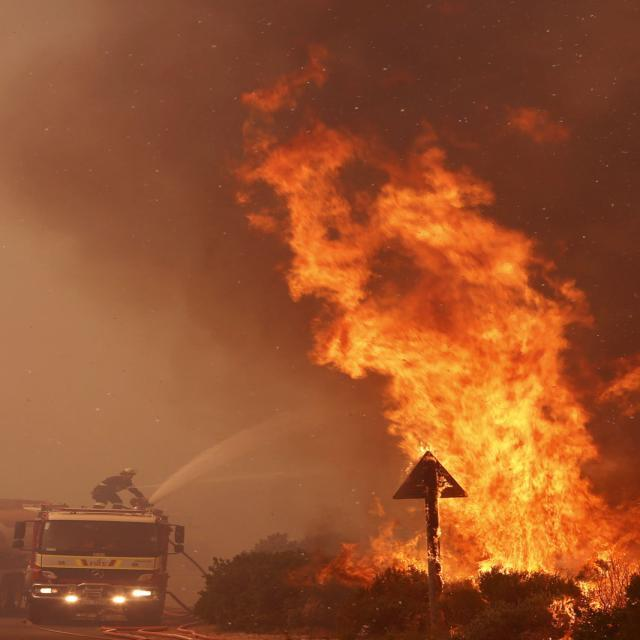Fire: (261, 130, 640, 614)
Smoke: (85, 0, 640, 481)
